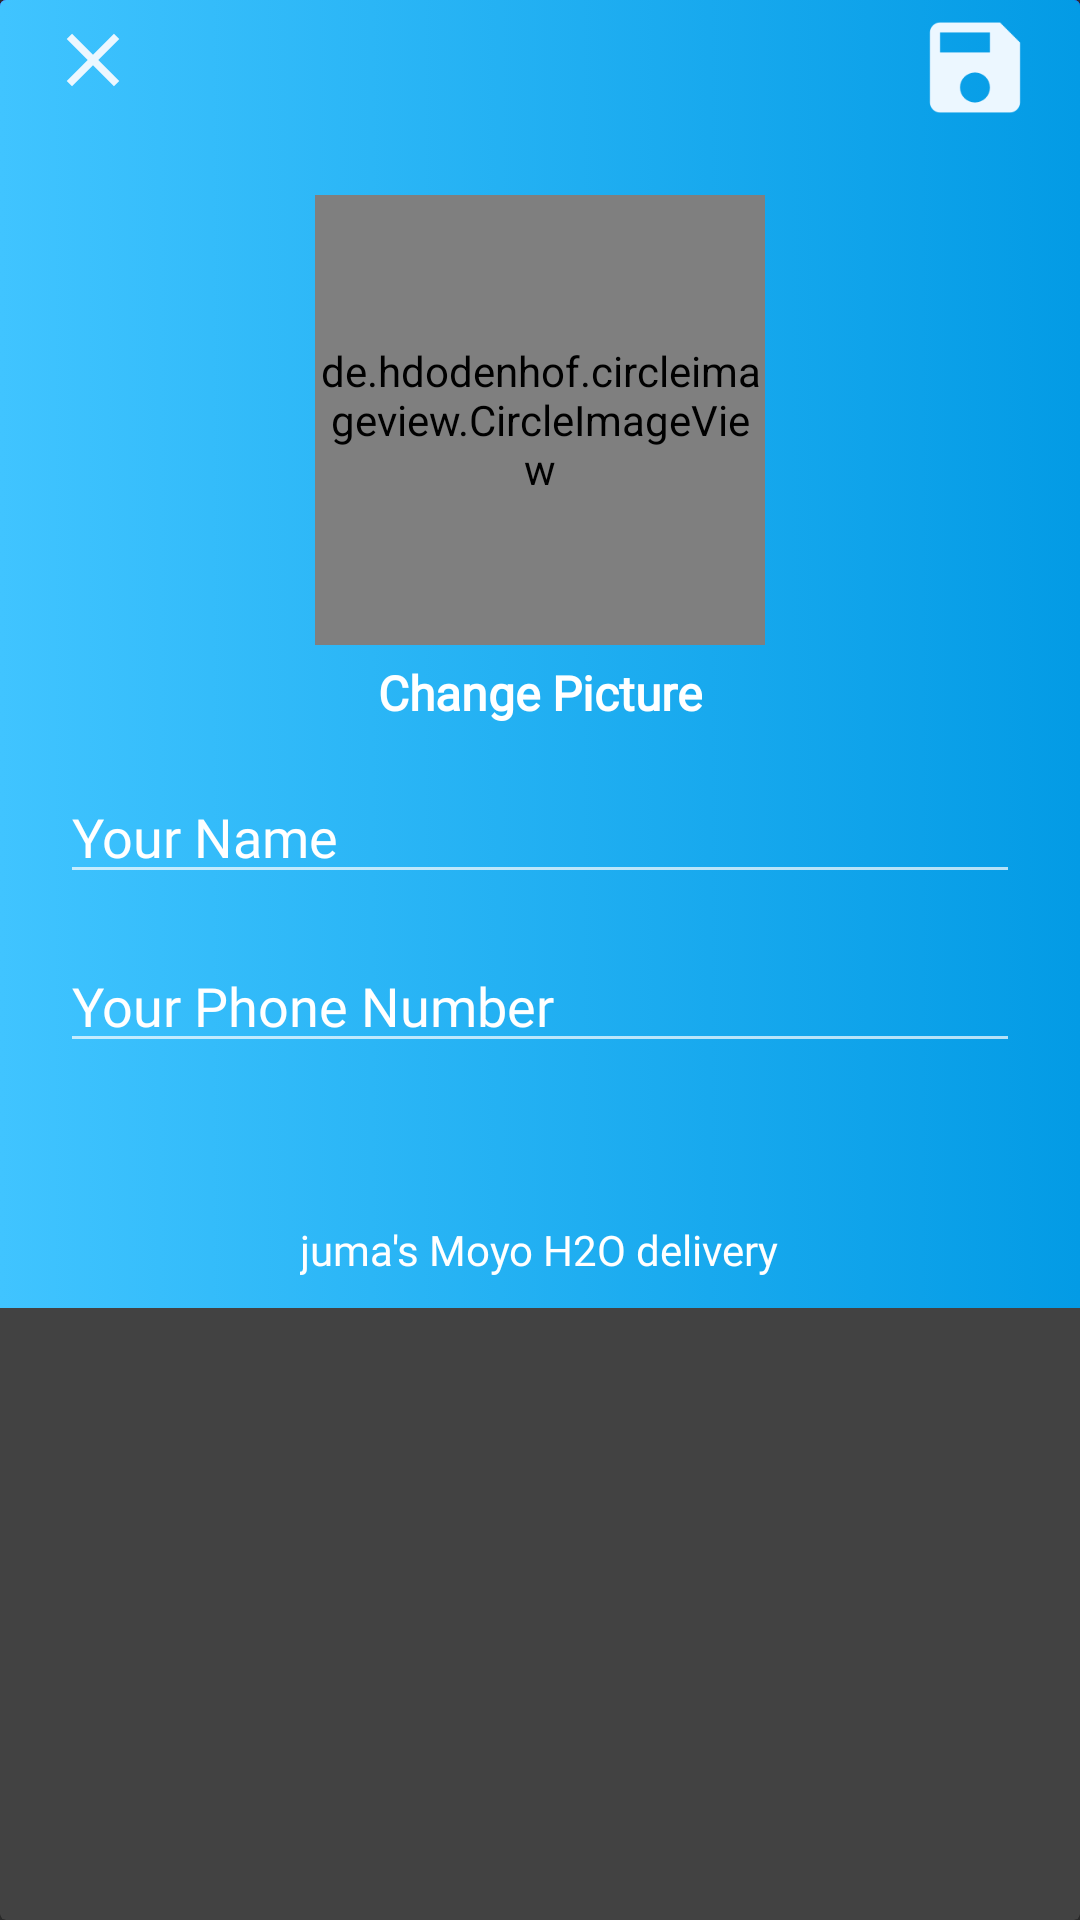

Icons on this 1080×1920 Android screen, each with the point to tap as [x,y]:
close: [93,60]
save edited info: [975,67]
